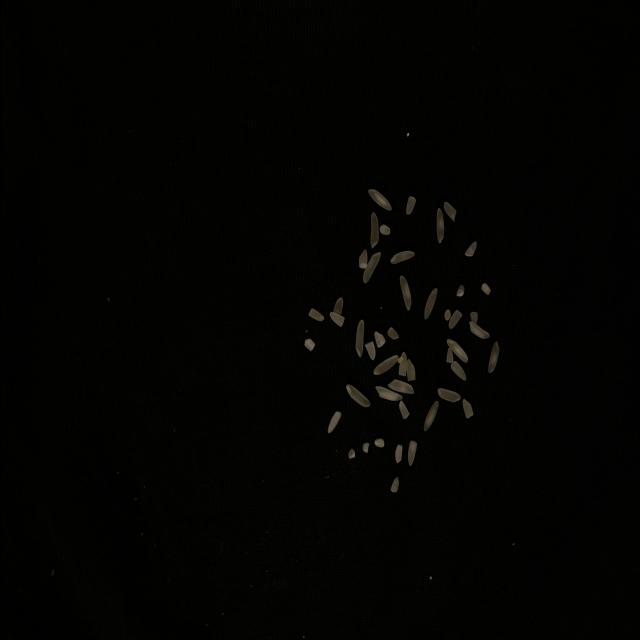Broken: (450, 361, 466, 381), (326, 412, 340, 434), (448, 310, 462, 329), (406, 440, 416, 466), (443, 202, 455, 222), (329, 312, 344, 328), (308, 308, 324, 322), (462, 398, 472, 418), (398, 352, 406, 376), (373, 332, 385, 348), (364, 342, 374, 361), (398, 401, 408, 419), (406, 359, 414, 381), (405, 197, 415, 214), (464, 242, 476, 256), (332, 298, 342, 314), (358, 249, 366, 269), (386, 328, 398, 340), (394, 445, 402, 463), (378, 224, 389, 236), (480, 284, 490, 296), (390, 477, 398, 492), (304, 339, 314, 351), (374, 438, 384, 448), (469, 312, 477, 324), (455, 284, 463, 296), (446, 348, 452, 363), (361, 442, 369, 452), (347, 448, 354, 458), (444, 309, 449, 321), (396, 357, 402, 363)
Full: (362, 252, 380, 284), (344, 385, 370, 407), (446, 339, 468, 363), (367, 189, 391, 211), (373, 355, 397, 375), (422, 401, 438, 431), (398, 276, 411, 311), (374, 386, 402, 401), (387, 379, 413, 394), (424, 288, 436, 320), (487, 342, 499, 374), (468, 321, 488, 339), (389, 251, 414, 264), (436, 388, 459, 402), (355, 320, 363, 358), (370, 213, 378, 249), (436, 208, 444, 244)
